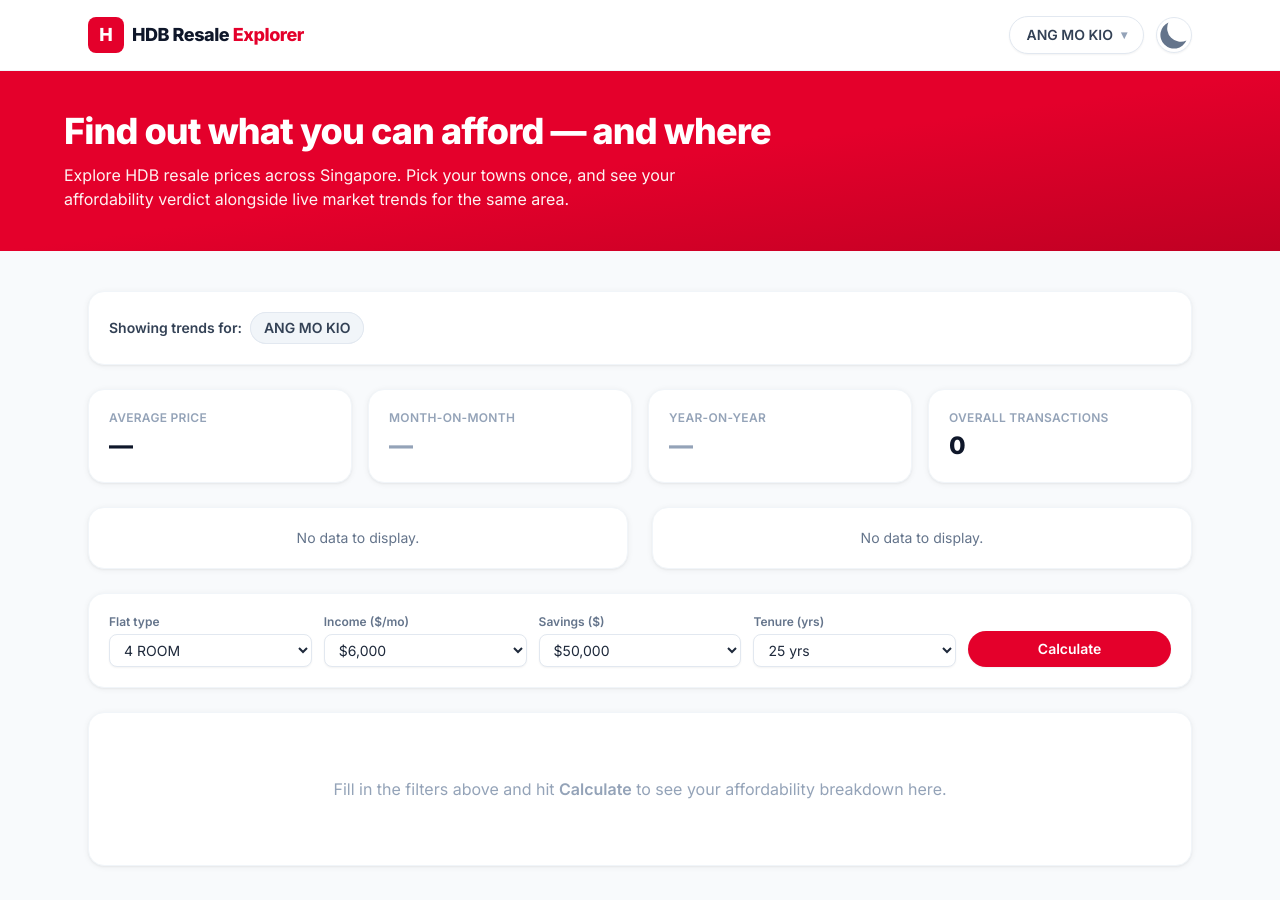
Scenario: PropertyExplorerPage › calculating affordability renders the result within the same page
Click the button "Calculate": (1070, 649) x1=968 y1=631 x2=1171 y2=667
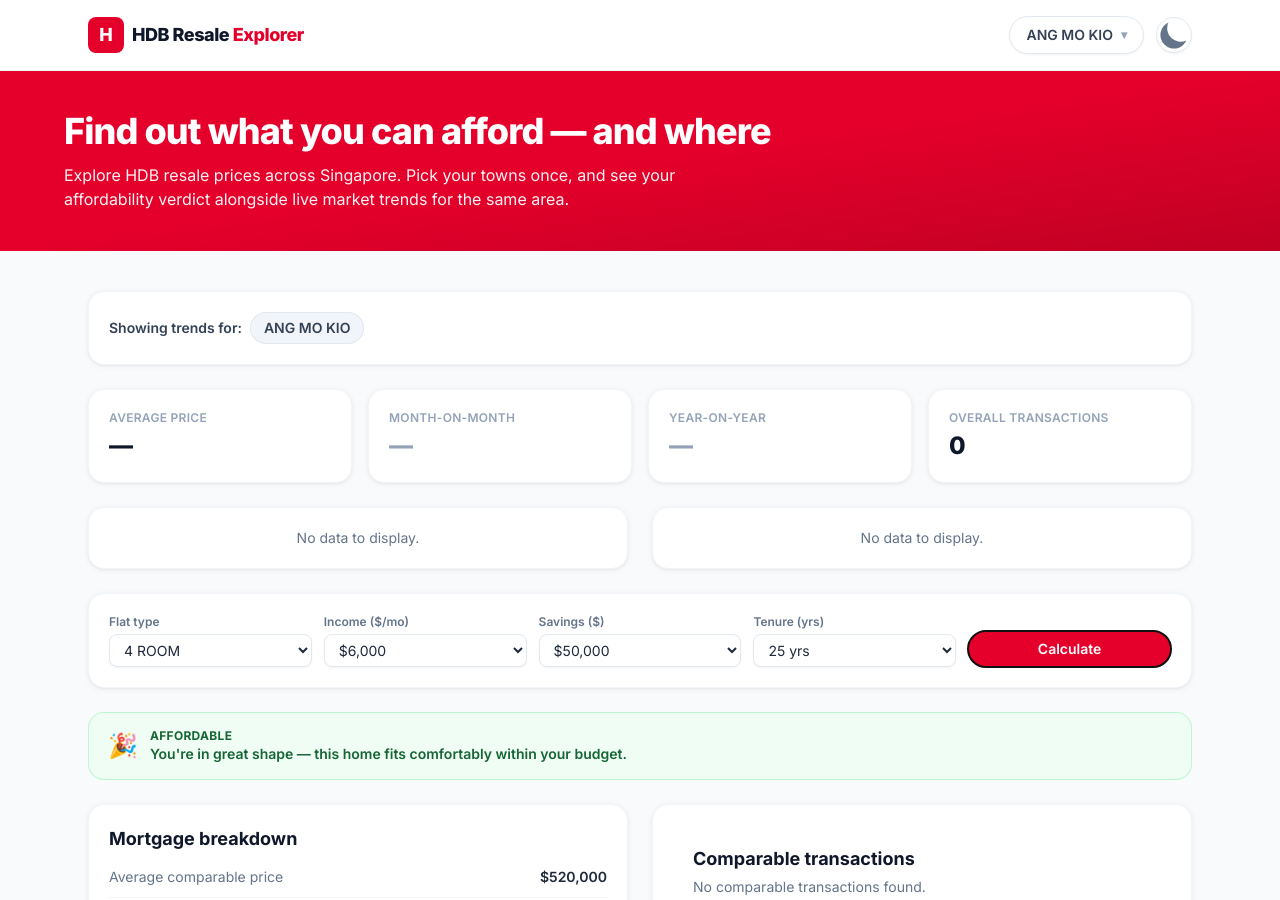
Check: the heading "Mortgage breakdown" is shown, box x1=109 y1=828 x2=297 y2=849
